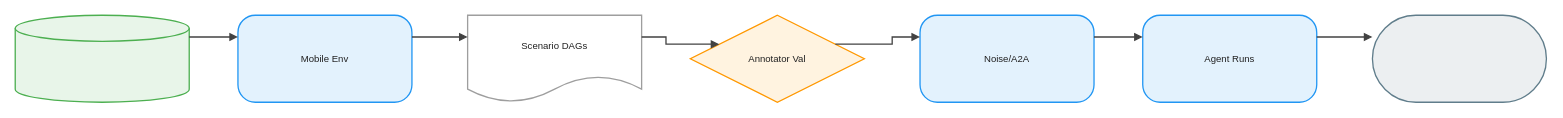
The diagram is 1563 pixels wide and 118 high, and some of its shapes have lost their labels. Each missing label, with the box of its shape:
ARE Platform: (14, 14, 189, 102)
Pass@1: (1371, 14, 1547, 102)
